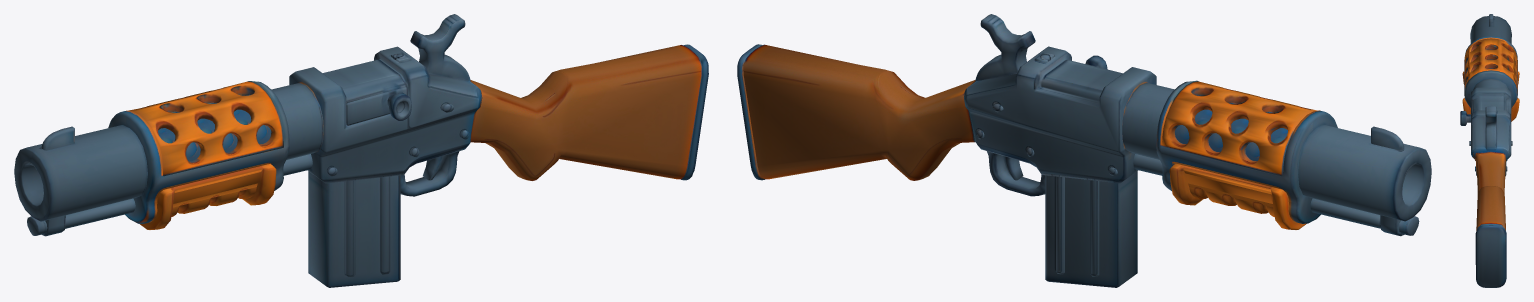
Rendered from wpn_percuteur.glb.
The picture shows the model from 3 angles, left to right: view 1: azimuth 30°, elevation 25°; view 2: azimuth 150°, elevation 25°; view 3: azimuth 270°, elevation 25°; orthographic projection. The views are drawn at different scales.
Parts seen in each view (by area): view 1: wpn_percuteur; view 2: wpn_percuteur; view 3: wpn_percuteur.
Boxes of the visible parts, left/top/right/bottom form: wpn_percuteur: left=14, top=14, right=708, bottom=287; wpn_percuteur: left=737, top=14, right=1431, bottom=287; wpn_percuteur: left=1460, top=14, right=1519, bottom=287.
Bounding box in the file's own units: 0.9995 × 0.3462 × 0.1401.
Materials: 1 (1 with a texture image).
